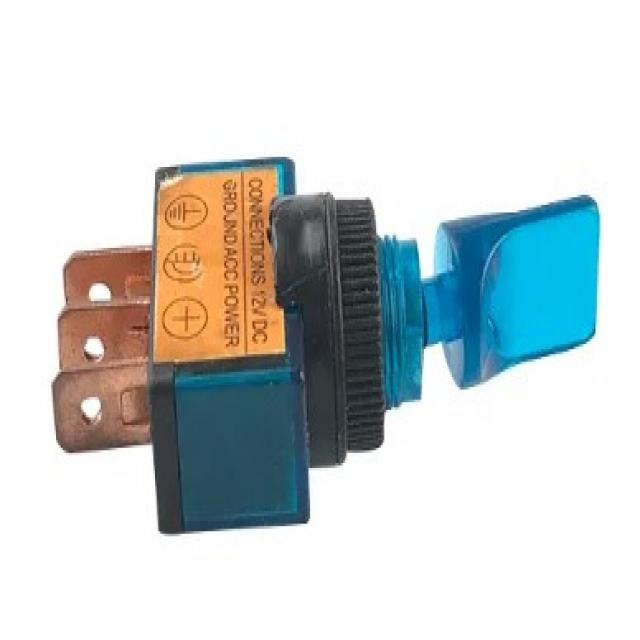toggle switch: (269, 191, 599, 473)
